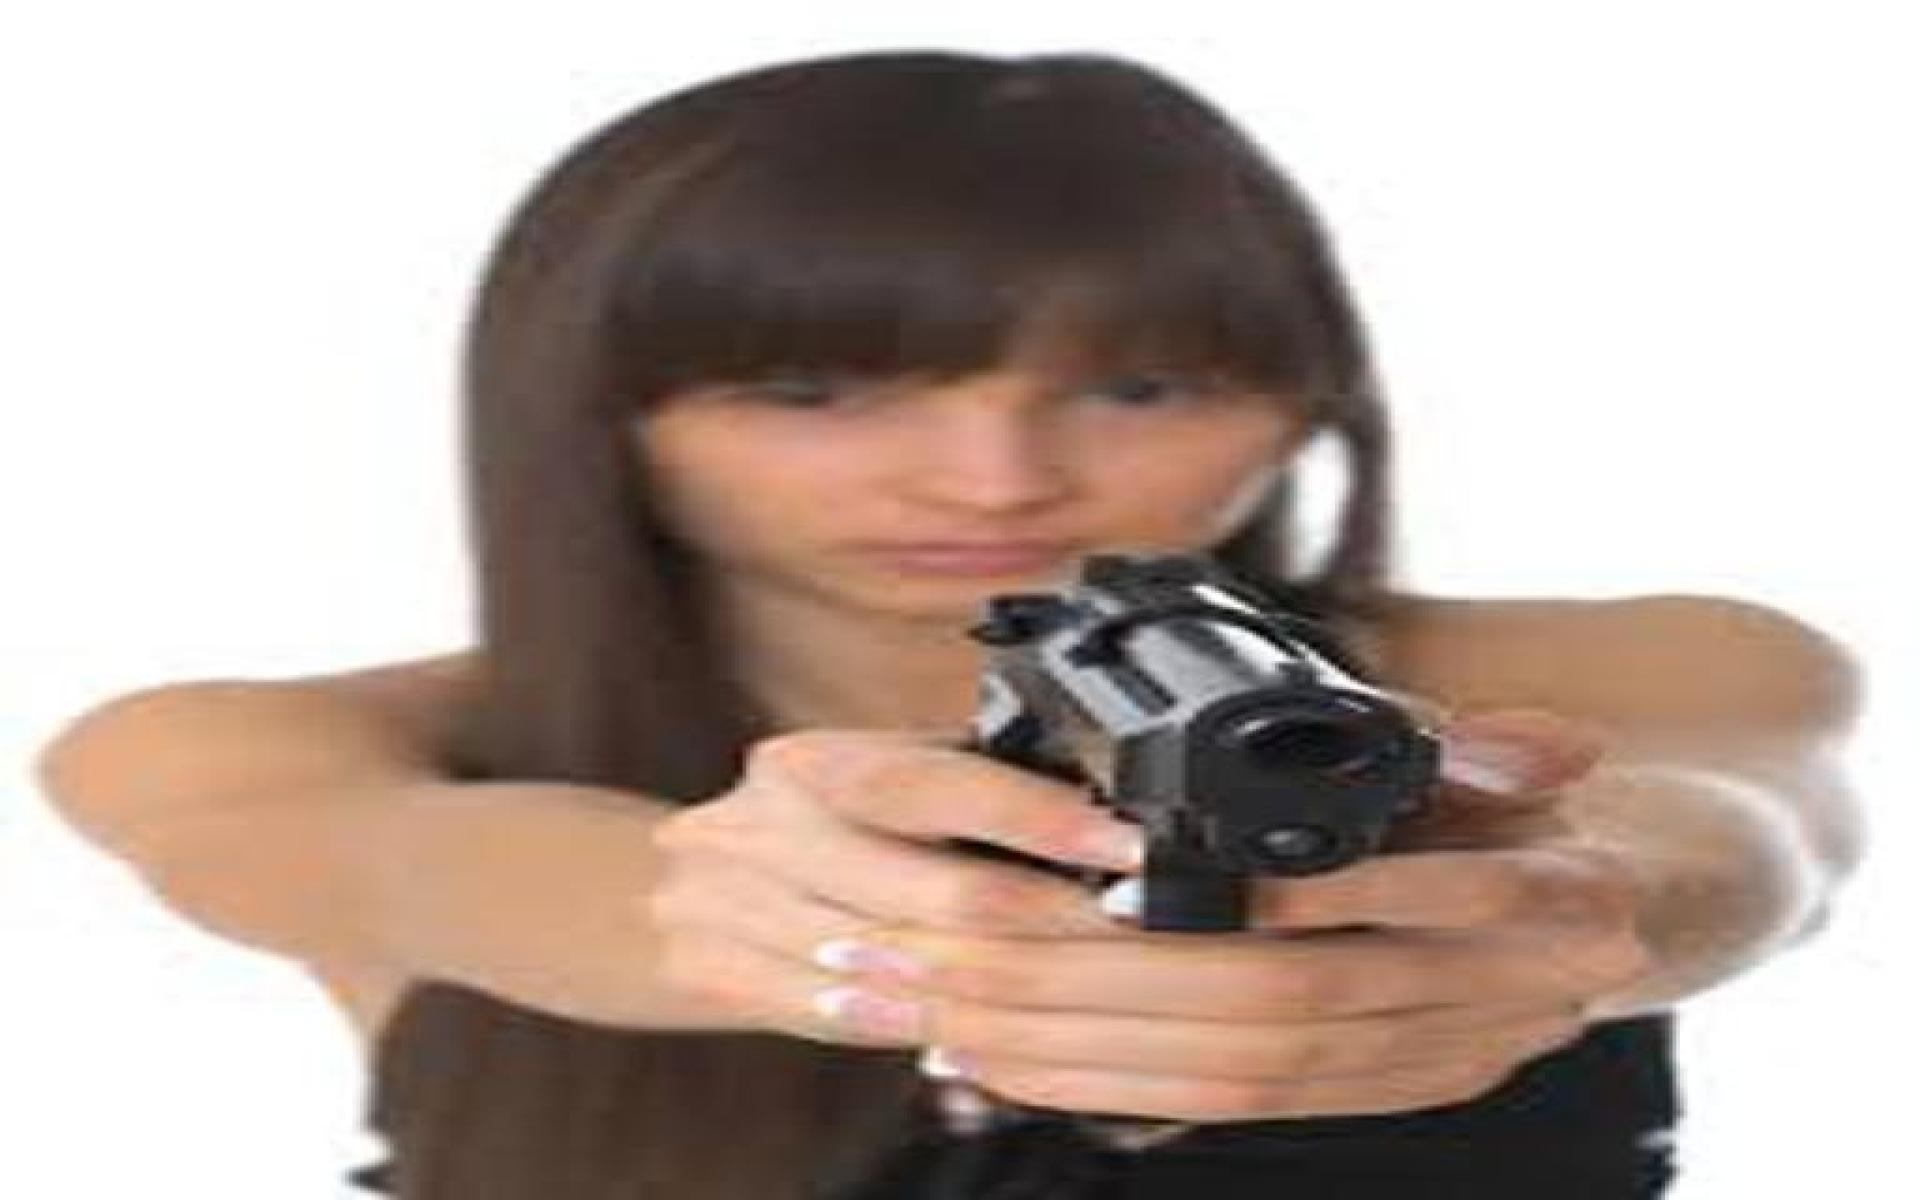gun: (922, 543, 1467, 1152)
